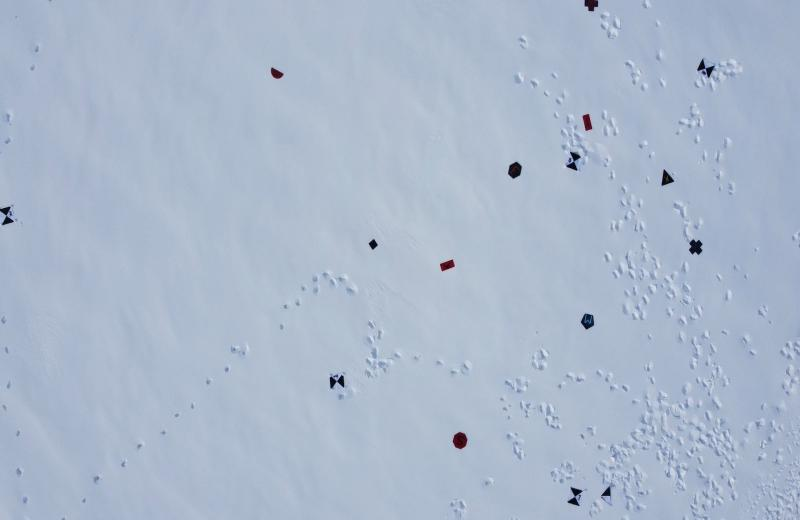Cross: (688, 237, 704, 256), (583, 0, 599, 12)
Hexagon: (507, 161, 523, 180)
Octagon: (451, 430, 468, 450)
Pentagon: (580, 312, 595, 331)
Rectangle: (582, 112, 593, 132), (439, 260, 456, 271)
Semi Circle: (270, 66, 284, 81)
Square: (368, 239, 378, 250)
Triangle: (660, 169, 676, 188)
